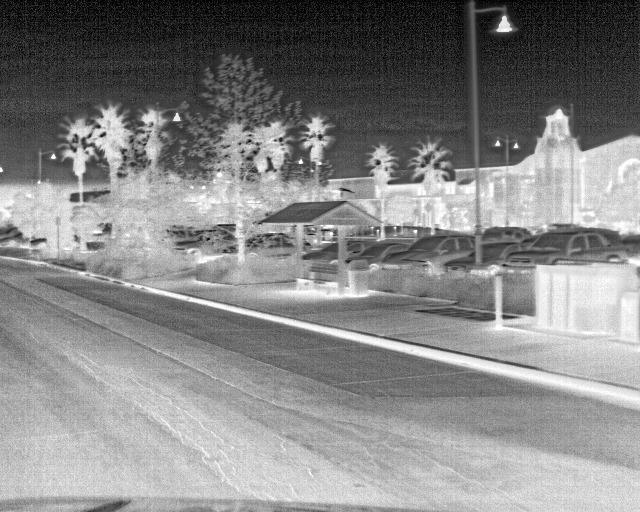car: (505, 226, 628, 265), (381, 234, 475, 276), (346, 241, 410, 272), (173, 227, 235, 258), (242, 233, 295, 262), (300, 242, 339, 266), (481, 226, 533, 242), (480, 243, 520, 262), (442, 251, 474, 274)
